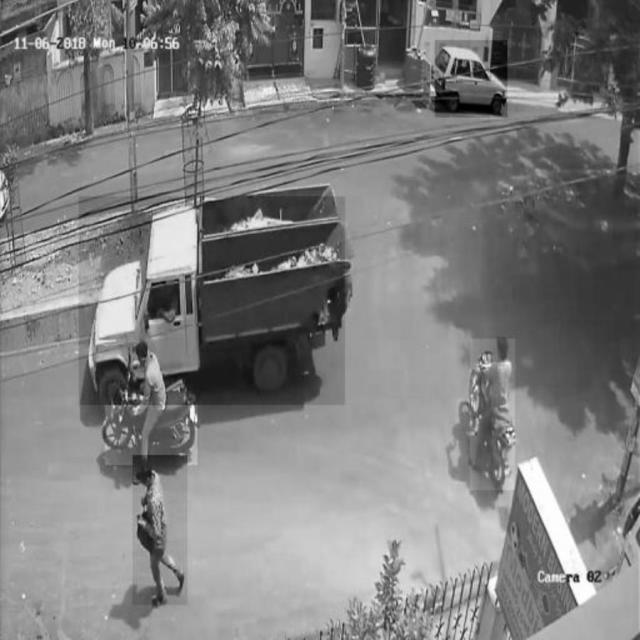person: (132, 455, 188, 605)
vehicle: (79, 197, 345, 405), (105, 347, 197, 465), (470, 339, 516, 490), (436, 41, 508, 118)
